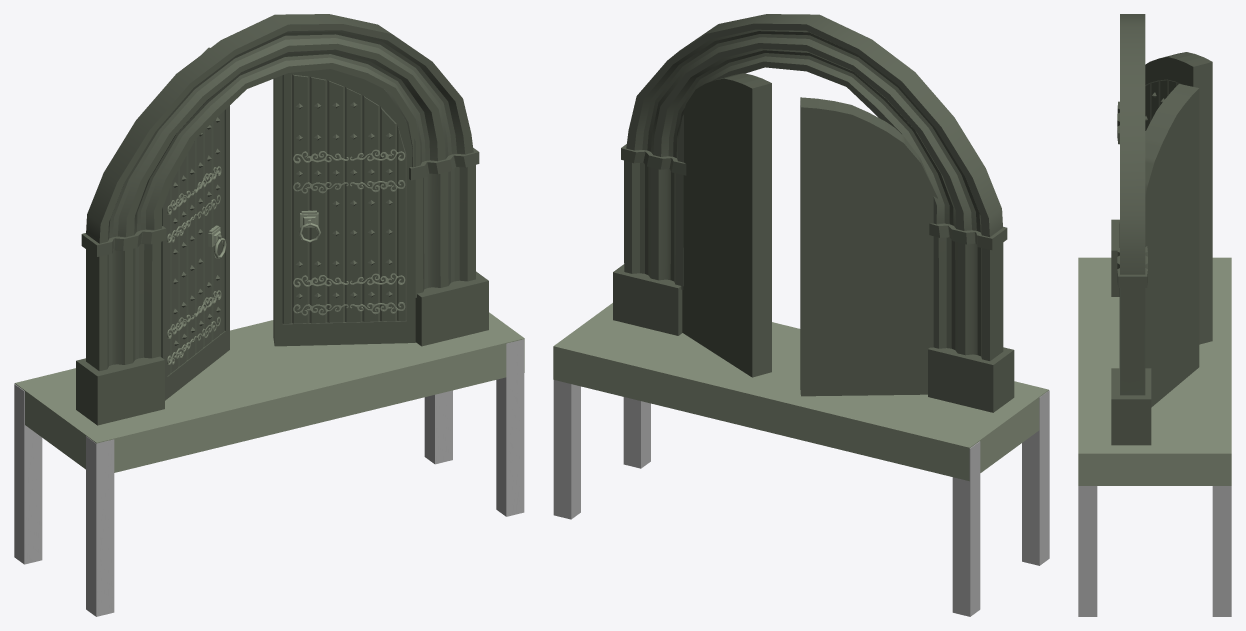
Rendered from Wood_Door_Mesh.fbx.
3 renders of one model, left to right at view 1: azimuth 30°, elevation 25°; view 2: azimuth 150°, elevation 25°; view 3: azimuth 270°, elevation 25°, orthographic. The views are drawn at different scales.
Visible parts, largest first — view 1: Wood_Door_Mesh; view 2: Wood_Door_Mesh; view 3: Wood_Door_Mesh.
Boxes of the visible parts, bbox=[...] form: Wood_Door_Mesh: bbox=[14, 14, 524, 616]; Wood_Door_Mesh: bbox=[553, 14, 1049, 616]; Wood_Door_Mesh: bbox=[1078, 14, 1231, 616].
Bounding box in the file's own units: 1301 × 1518 × 430.
